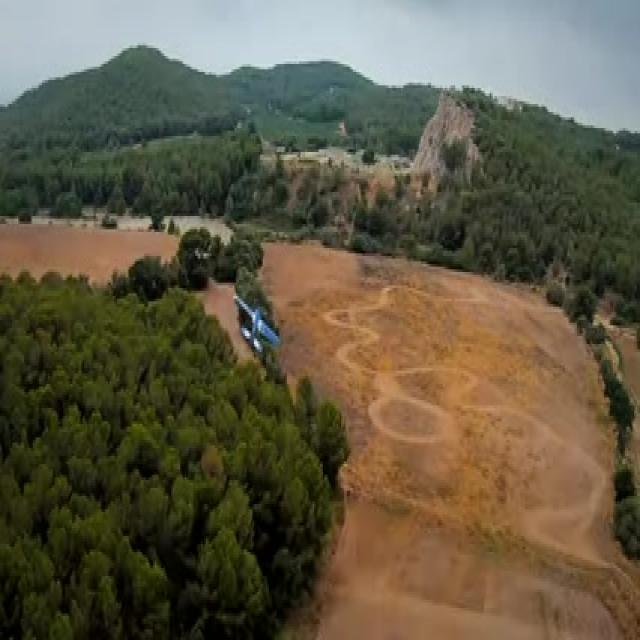iha: (231, 292, 284, 355)
